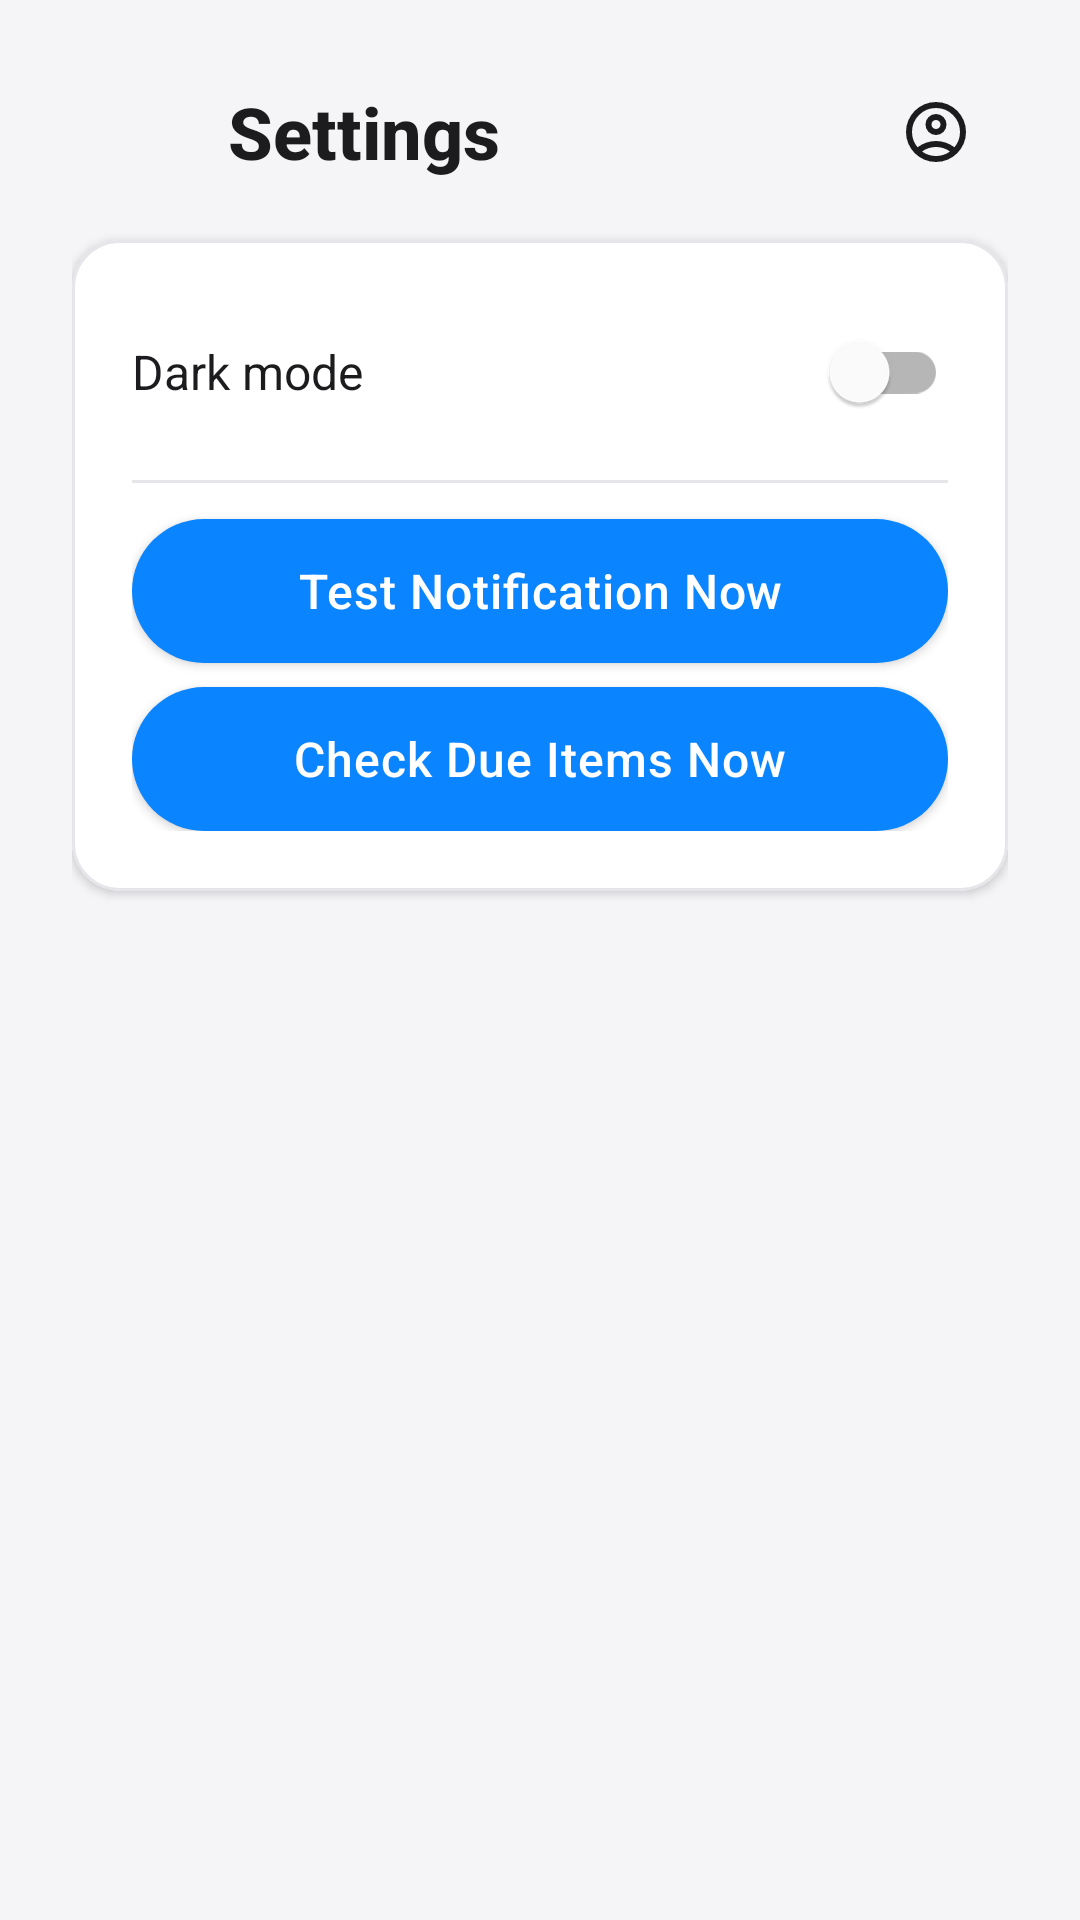

Icons on this 1080w x 1920h Android screen, each with the point to tap as (x,y):
Profile options: (936,132)
